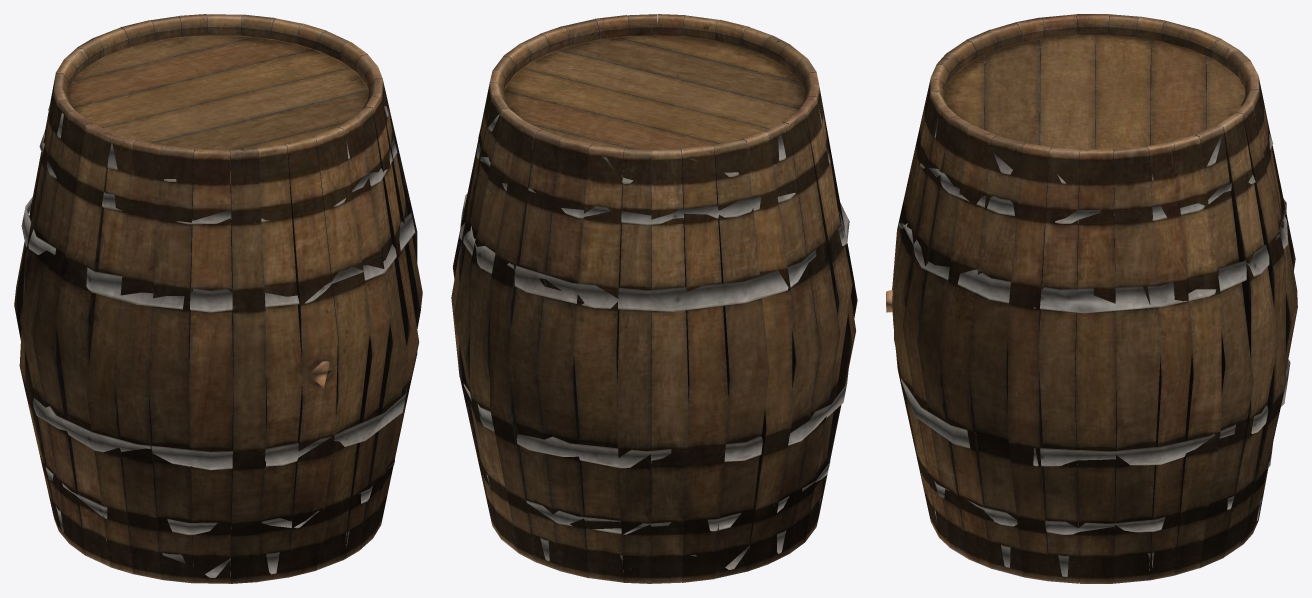
Rendered from wine_barrel_01.glb.
The picture shows the model from 3 angles, left to right: view 1: azimuth 30°, elevation 25°; view 2: azimuth 150°, elevation 25°; view 3: azimuth 270°, elevation 25°; orthographic projection.
Visible parts, largest first — view 1: wine_barrel_01_Lid; view 2: wine_barrel_01_Lid; view 3: wine_barrel_01_Lid.
Part boxes in pixels (bbox=[...]): wine_barrel_01_Lid: bbox=[14, 14, 422, 583]; wine_barrel_01_Lid: bbox=[451, 14, 857, 583]; wine_barrel_01_Lid: bbox=[886, 14, 1297, 583].
Bounding box in the file's own units: 0.7419 × 0.8695 × 0.7521.
1 material, 1 textured.
